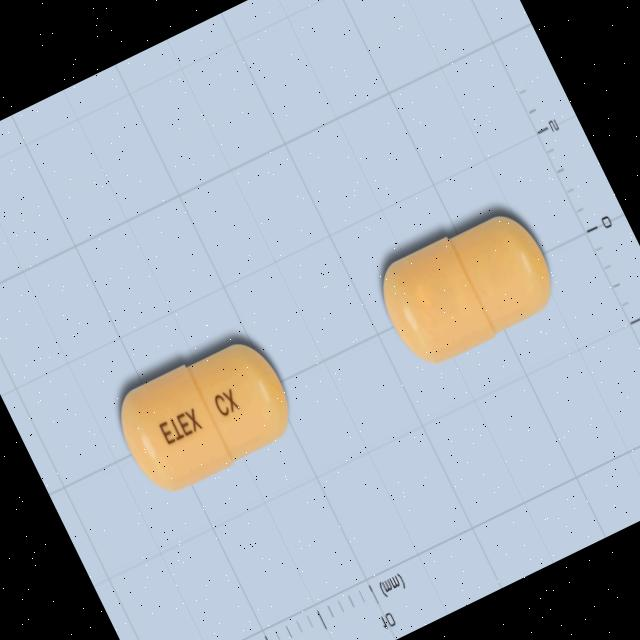Cefixime Cap- Etex: (97, 316, 310, 509), (361, 192, 570, 378)
